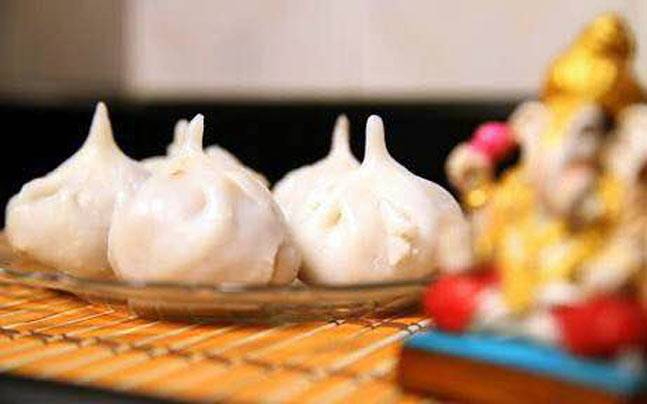modak: (287, 113, 460, 282), (131, 112, 285, 291), (23, 89, 145, 275)
